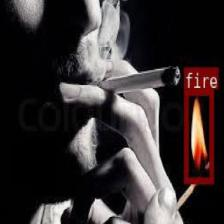fire: (184, 88, 212, 182)
